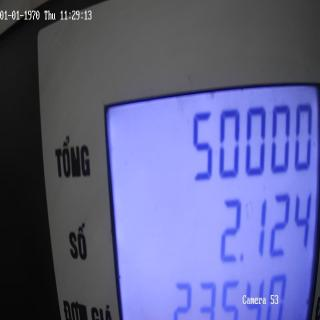screen: (97, 66, 319, 320)
